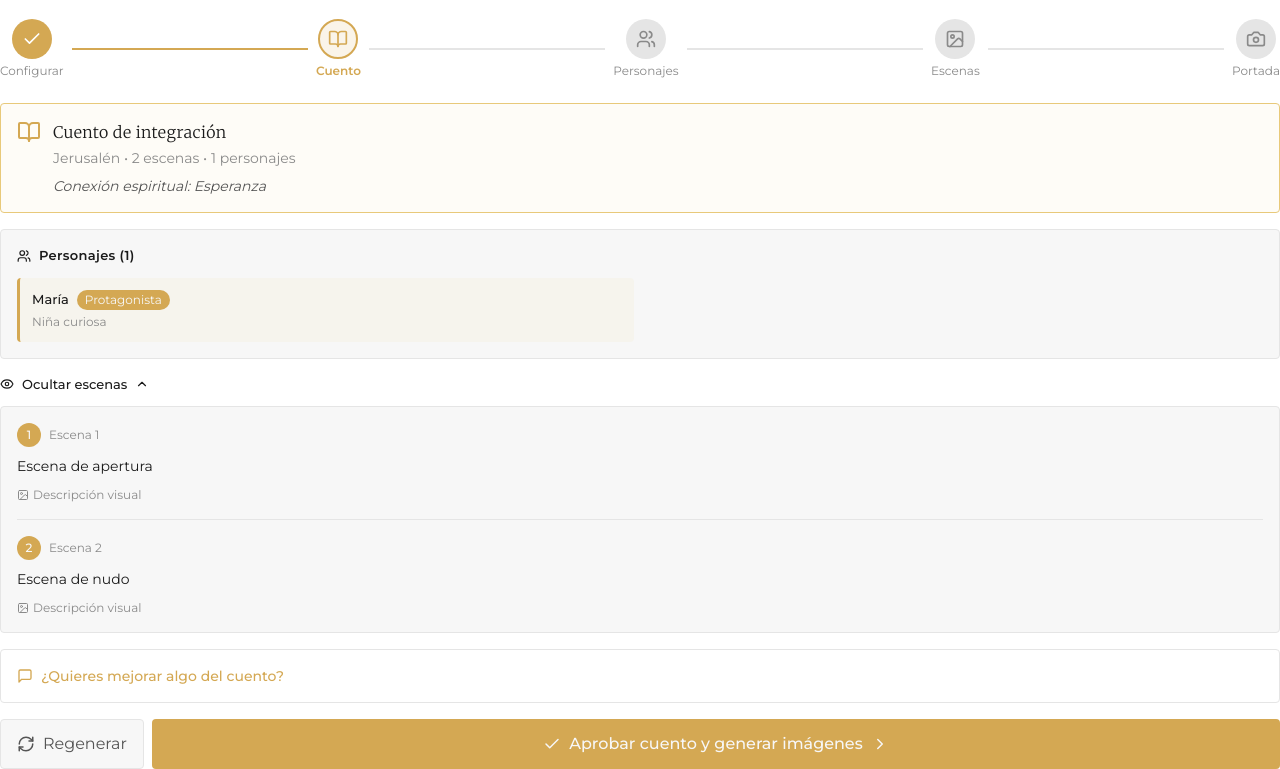
Case 5: lifecycle identity change during persistence ⇒ no success transition › clicking Regenerar while the authoritative upsert is in flight yields zero success effects
(page scrolled)
Click the button "Aprobar cuento y generar imágenes": click(716, 744) x1=152 y1=719 x2=1279 y2=768
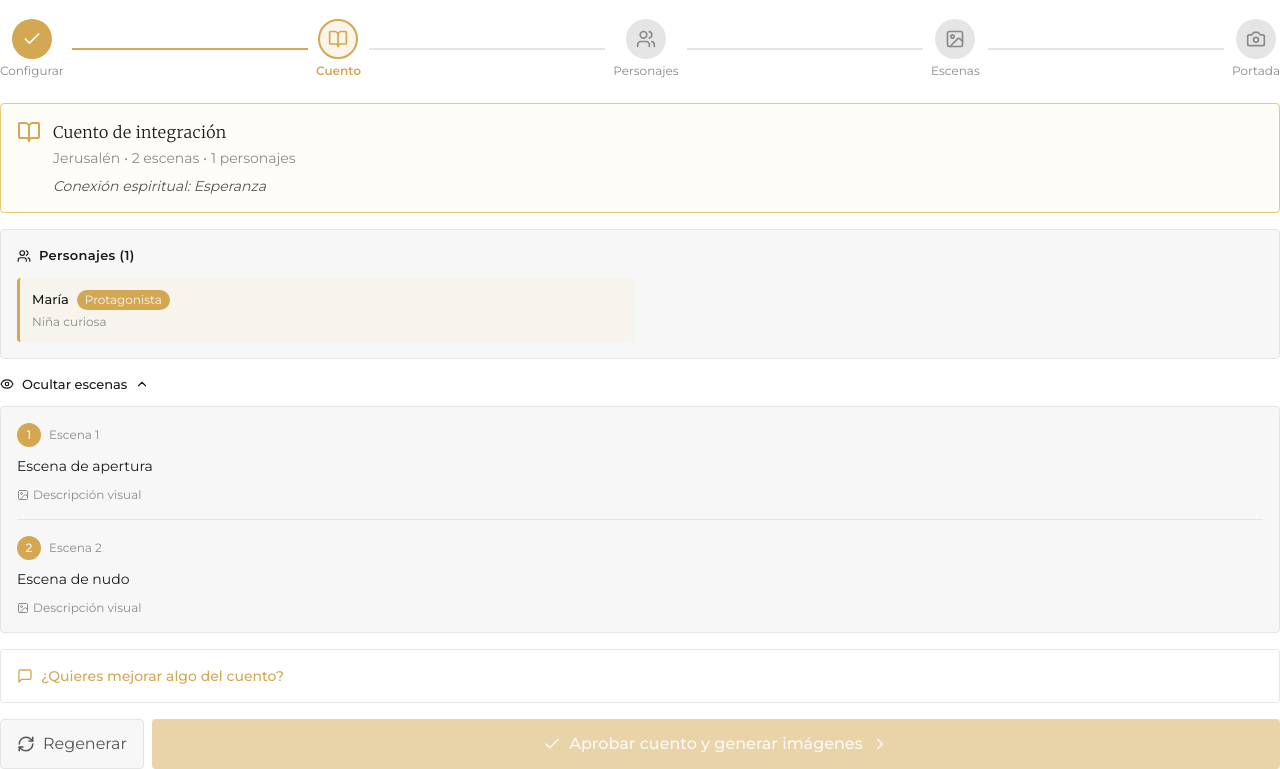
# Real UI lifecycle change while persistence is in flight.
Click the button "Regenerar": click(72, 744) x1=0 y1=719 x2=144 y2=768
(page scrolled)
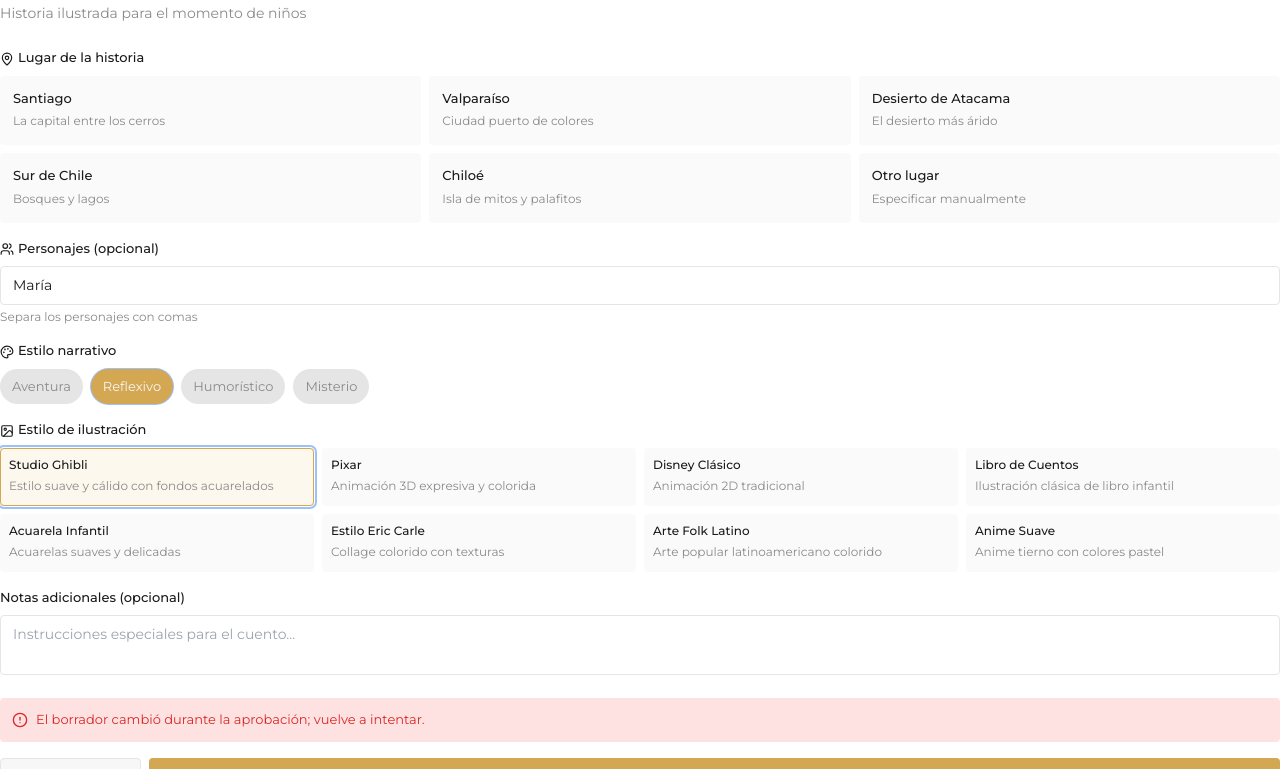
Result: the button "Aprobar cuento y generar imágenes" is gone
